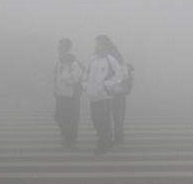person: (87, 34, 135, 152), (52, 36, 87, 145)
